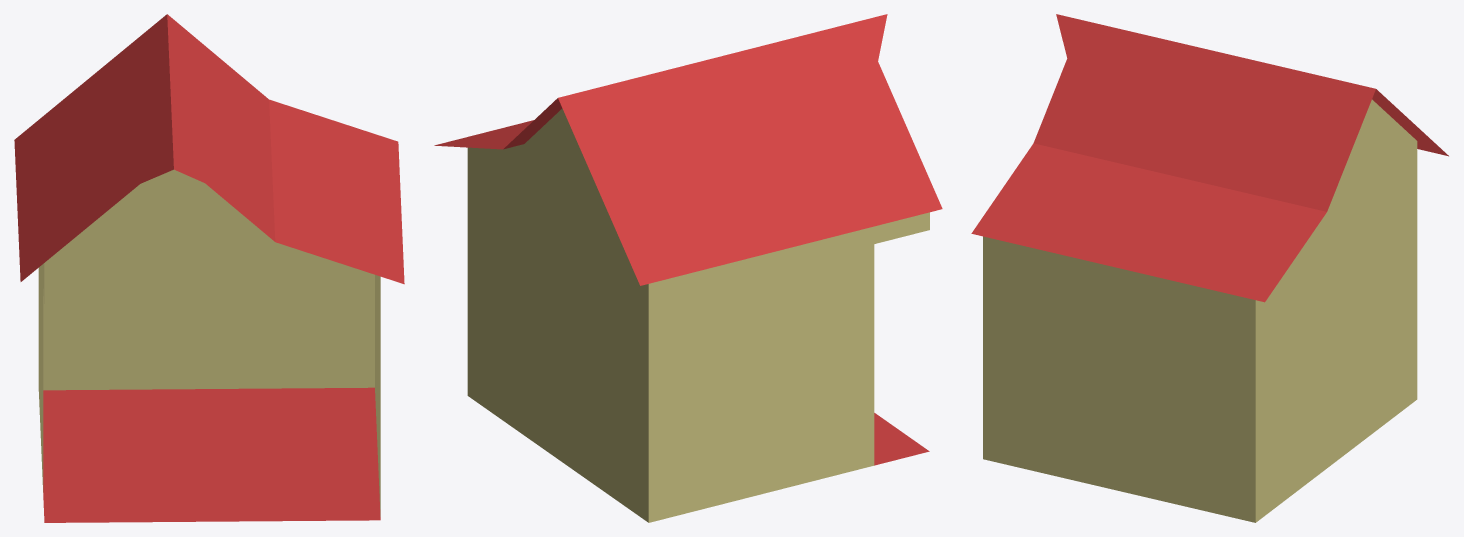
3 renders of one model, left to right at view 1: azimuth 30°, elevation 25°; view 2: azimuth 150°, elevation 25°; view 3: azimuth 270°, elevation 25°, orthographic. The views are drawn at different scales.
Size of the model in its own units: 15.67 by 15.1 by 12.64.
